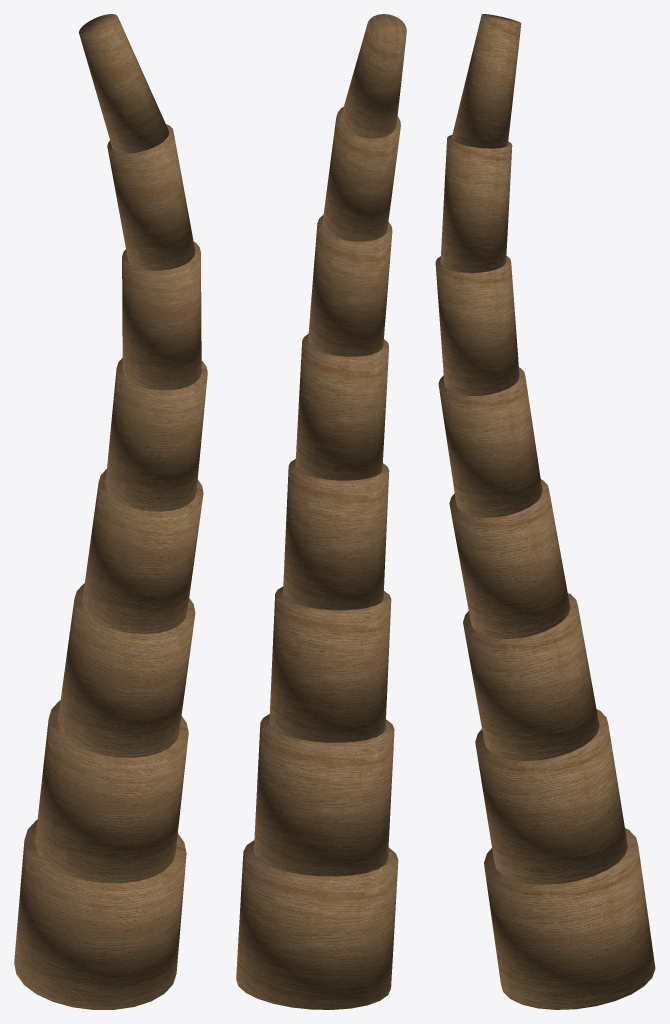
The model's file is cylinder.032_lev3.glb.
The picture shows the model from 3 angles, left to right: view 1: azimuth 30°, elevation 25°; view 2: azimuth 150°, elevation 25°; view 3: azimuth 270°, elevation 25°; orthographic projection. The views are drawn at different scales.
Parts seen in each view (by area): view 1: cylinder.032_lev3; view 2: cylinder.032_lev3; view 3: cylinder.032_lev3.
Part boxes in pixels (x1,y1,x2,y2): cylinder.032_lev3: (14, 14, 207, 1009); cylinder.032_lev3: (236, 14, 406, 1009); cylinder.032_lev3: (435, 14, 655, 1009).
Bounding box in the file's own units: 0.5793 × 3.88 × 0.811.
Materials: 1 (1 with a texture image).
